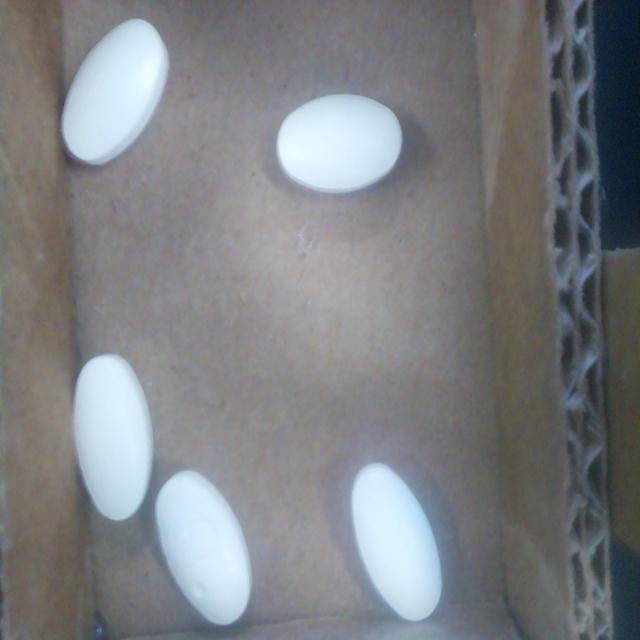pill: (61, 19, 168, 165), (155, 470, 252, 625), (351, 463, 442, 622), (74, 355, 153, 520), (277, 94, 402, 193)
